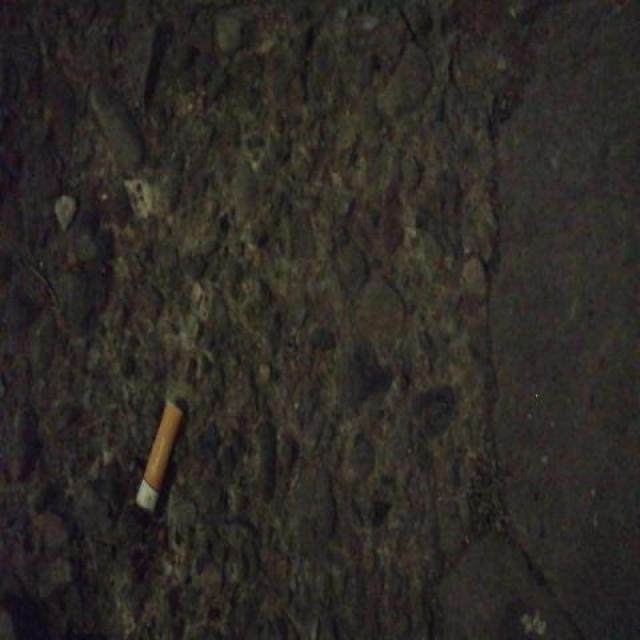non-organic waste: (133, 396, 187, 516)
